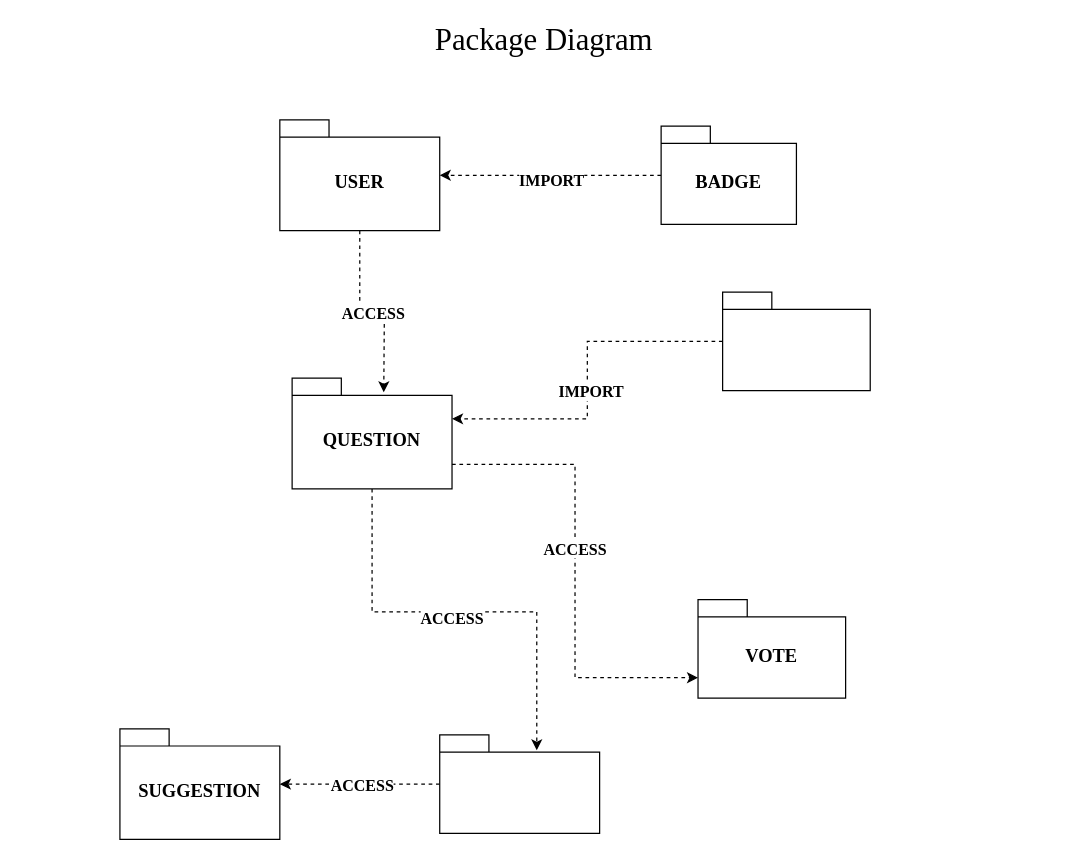
The diagram is 1087 pixels wide and 861 high, and some of its shapes have lost their labels. Here are the shapes that lost their labels. From the top down, the centre of each, then its label:
the point at 795,341: TOPIC
the point at 519,783: ANSWER
